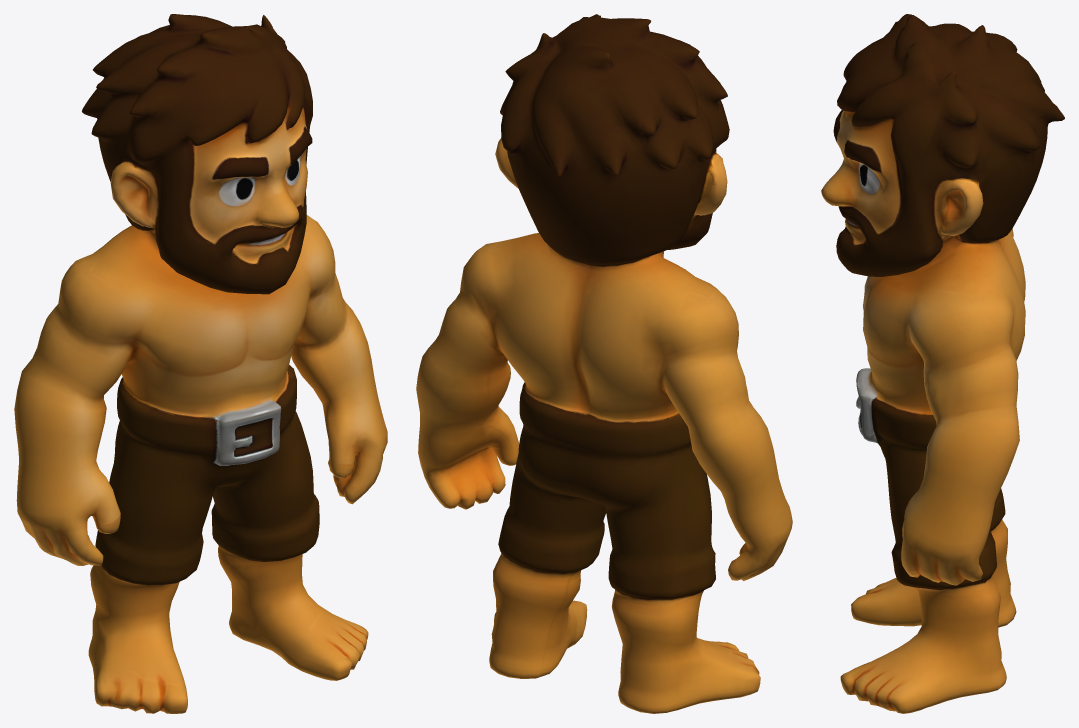
The model's file is base_basic_pbr.fbx.
3 renders of one model, left to right at view 1: azimuth 30°, elevation 25°; view 2: azimuth 150°, elevation 25°; view 3: azimuth 270°, elevation 25°, orthographic. The views are drawn at different scales.
Parts seen in each view (by area): view 1: model; view 2: model; view 3: model.
Boxes of the visible parts, bbox=[...] form: model: bbox=[14, 14, 387, 713]; model: bbox=[416, 14, 792, 713]; model: bbox=[821, 14, 1064, 713].
Size of the model in its own units: 109 by 188 by 66.16.
1 material, 1 textured.
